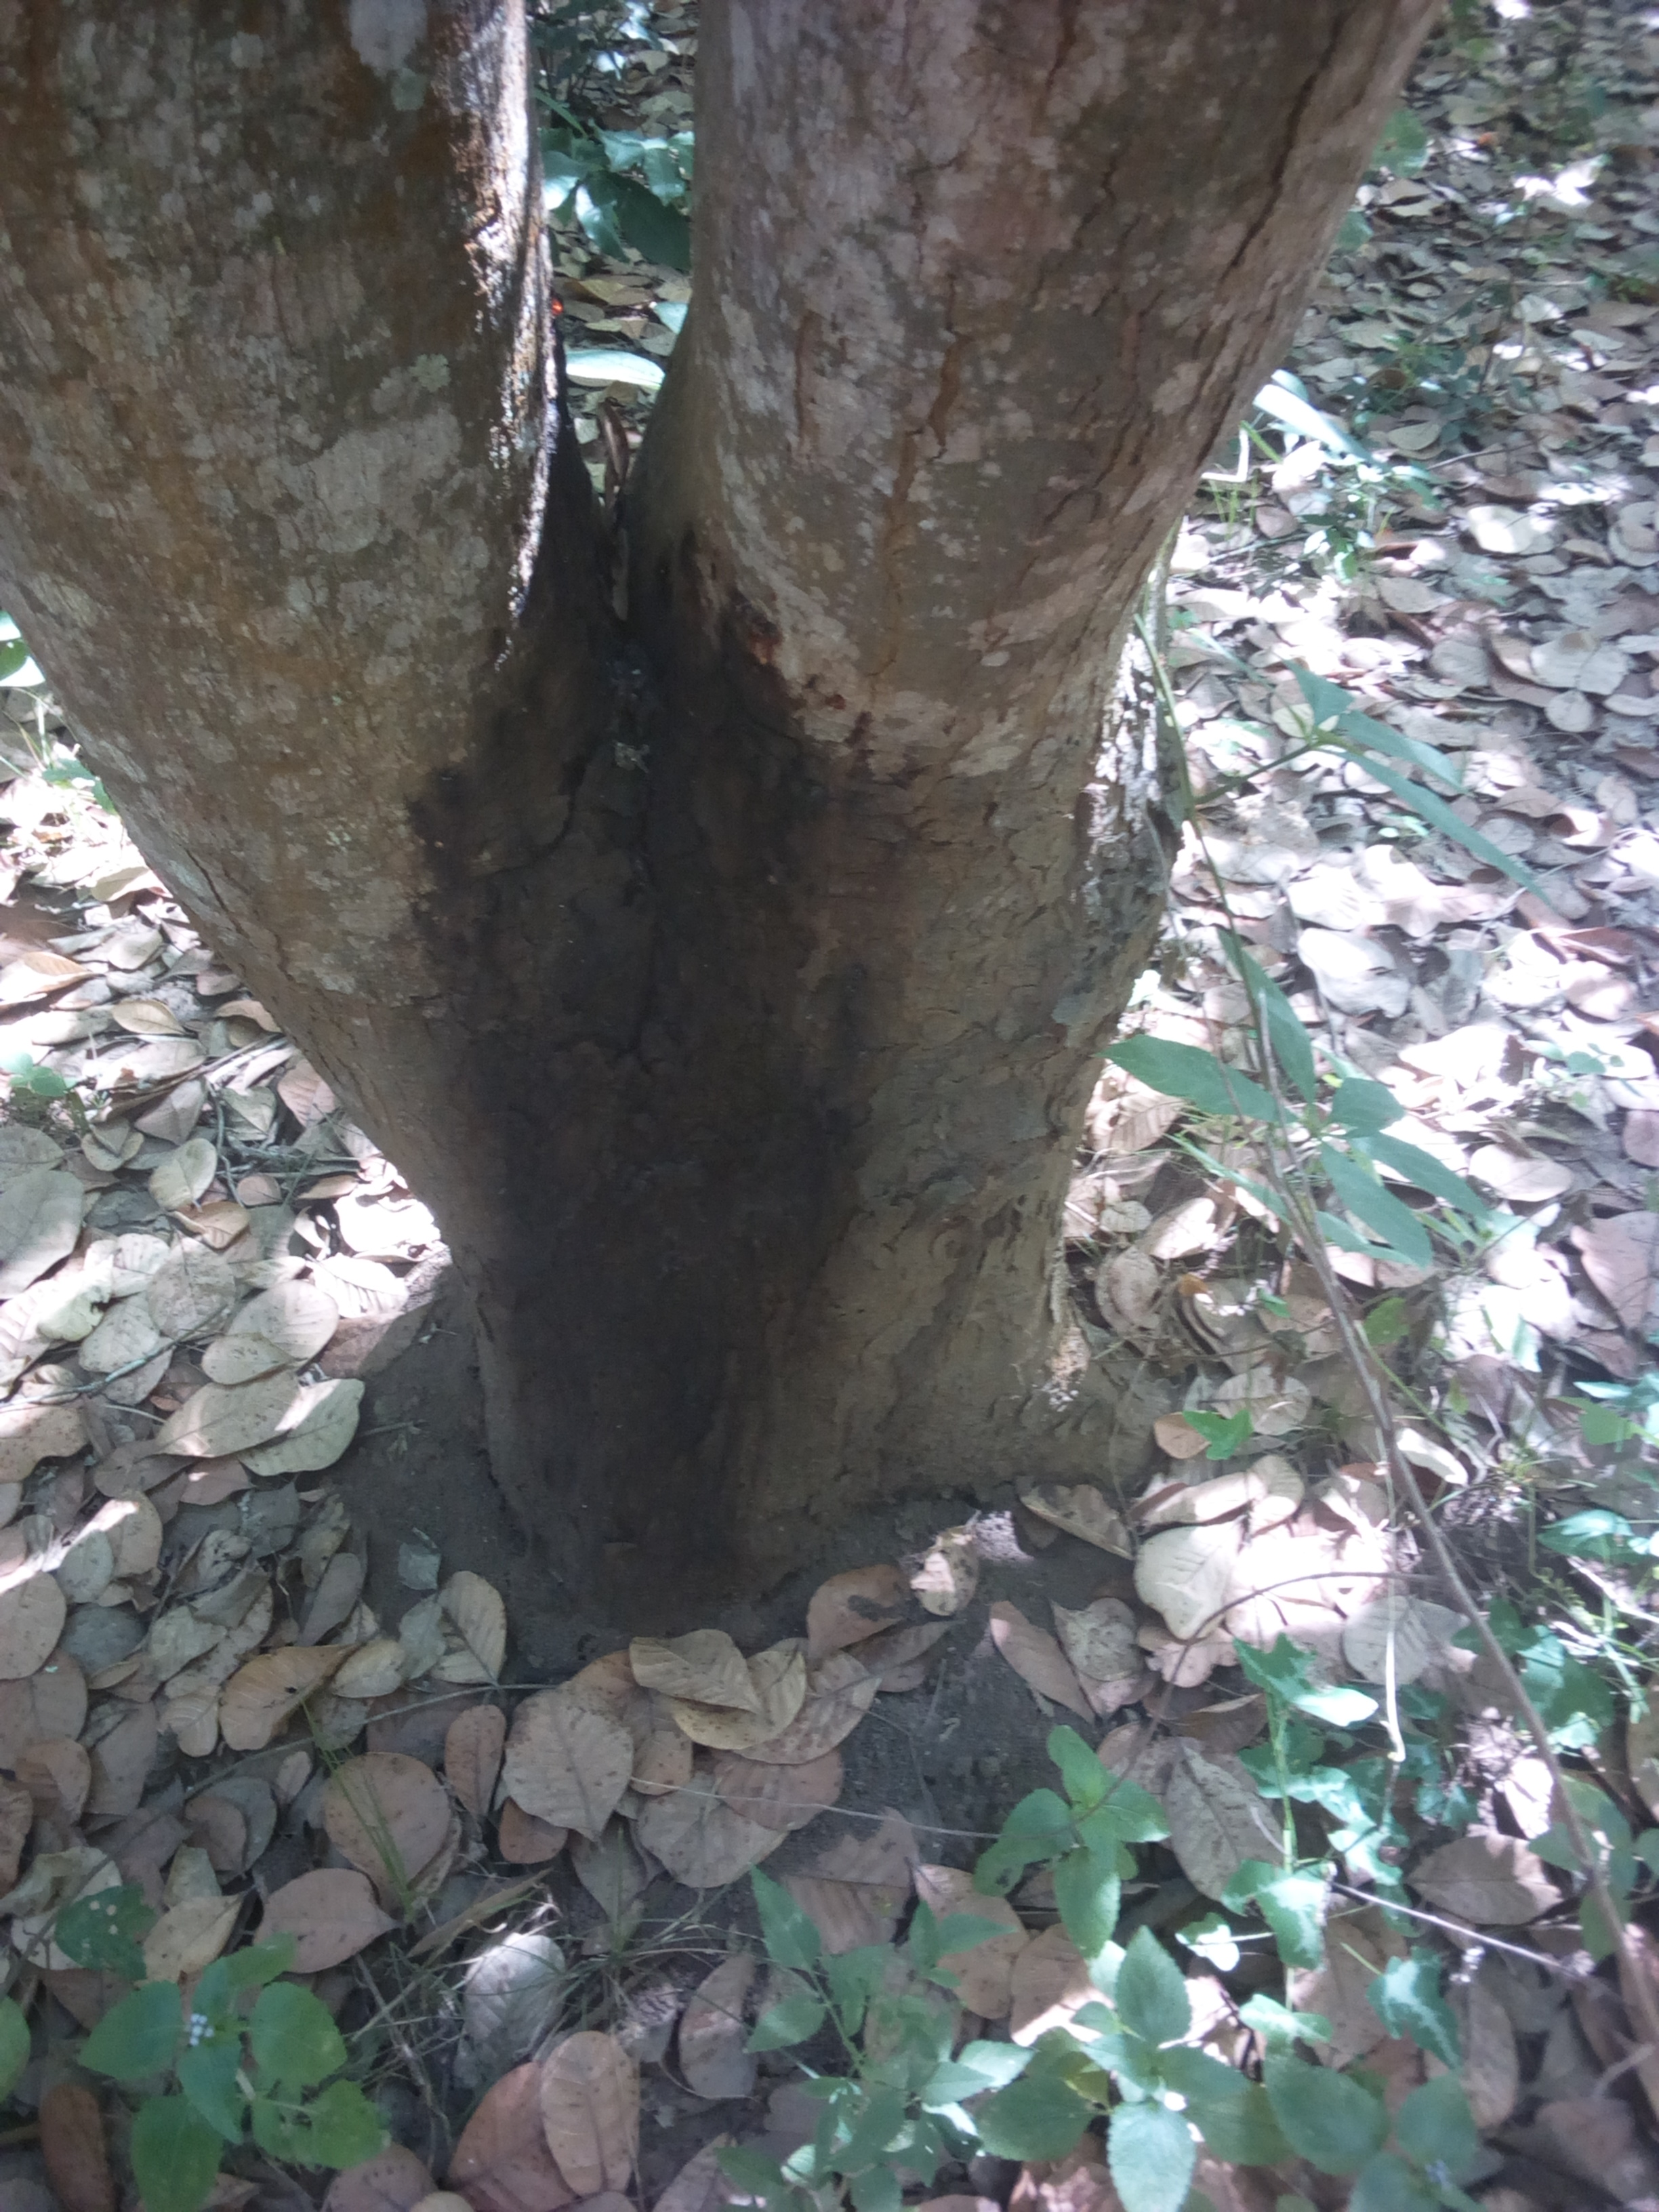Gommose: (457, 644, 901, 1587)
